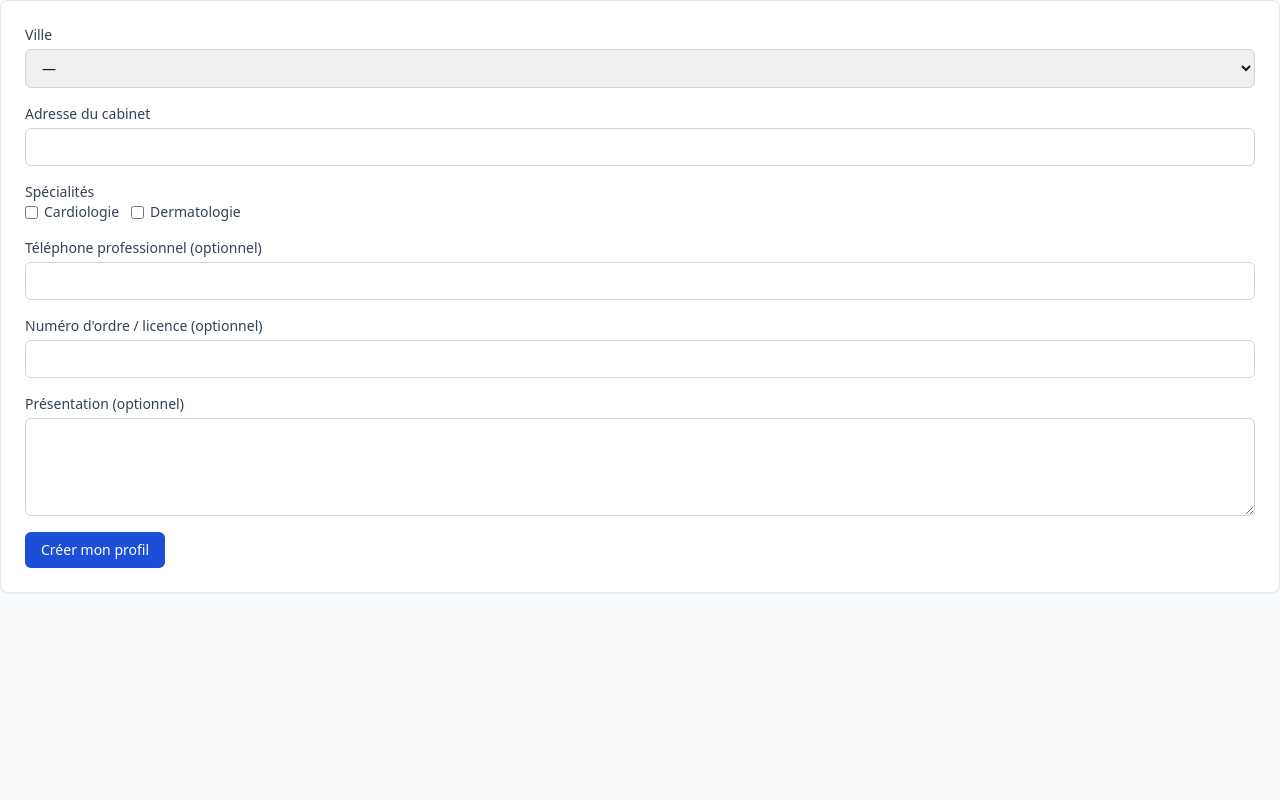
Test case: DoctorProfileForm › affiche le message d'erreur renvoyé par l'API
Select "Casablanca" in the dropdown labelled "Ville" at (640, 68), box [25, 49, 1255, 88]
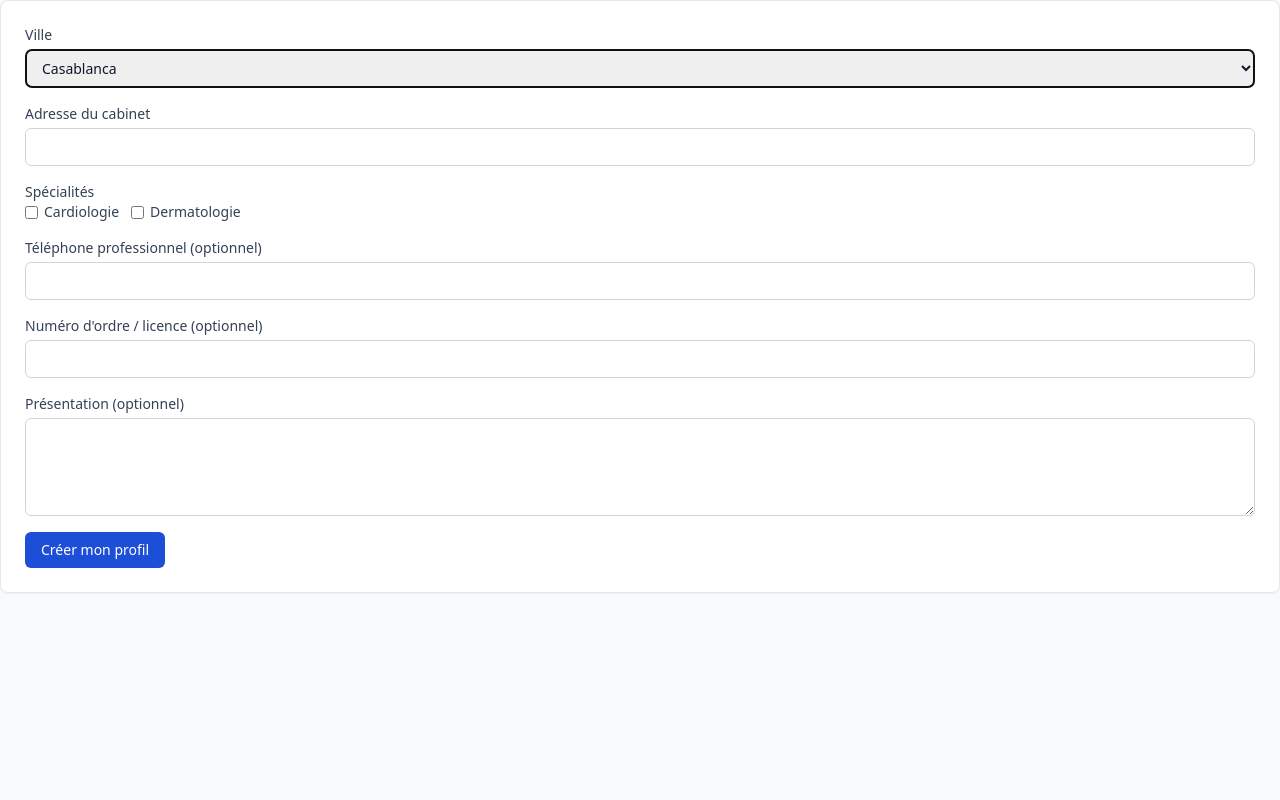
Type "12 rue des Fleurs" into the field labelled "Adresse du cabinet" at (640, 147), box [25, 128, 1255, 166]
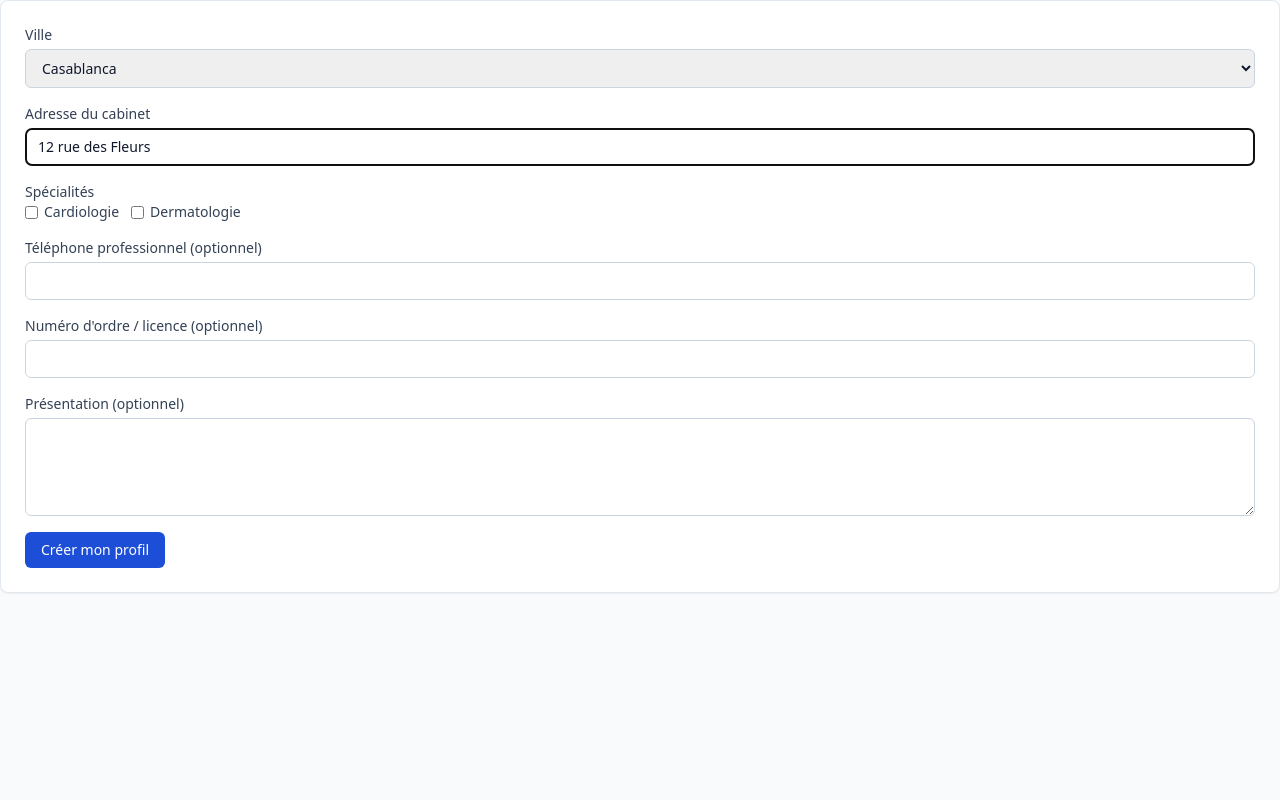
Click the checkbox labelled "Cardiologie" at (32, 212), box [25, 206, 38, 218]
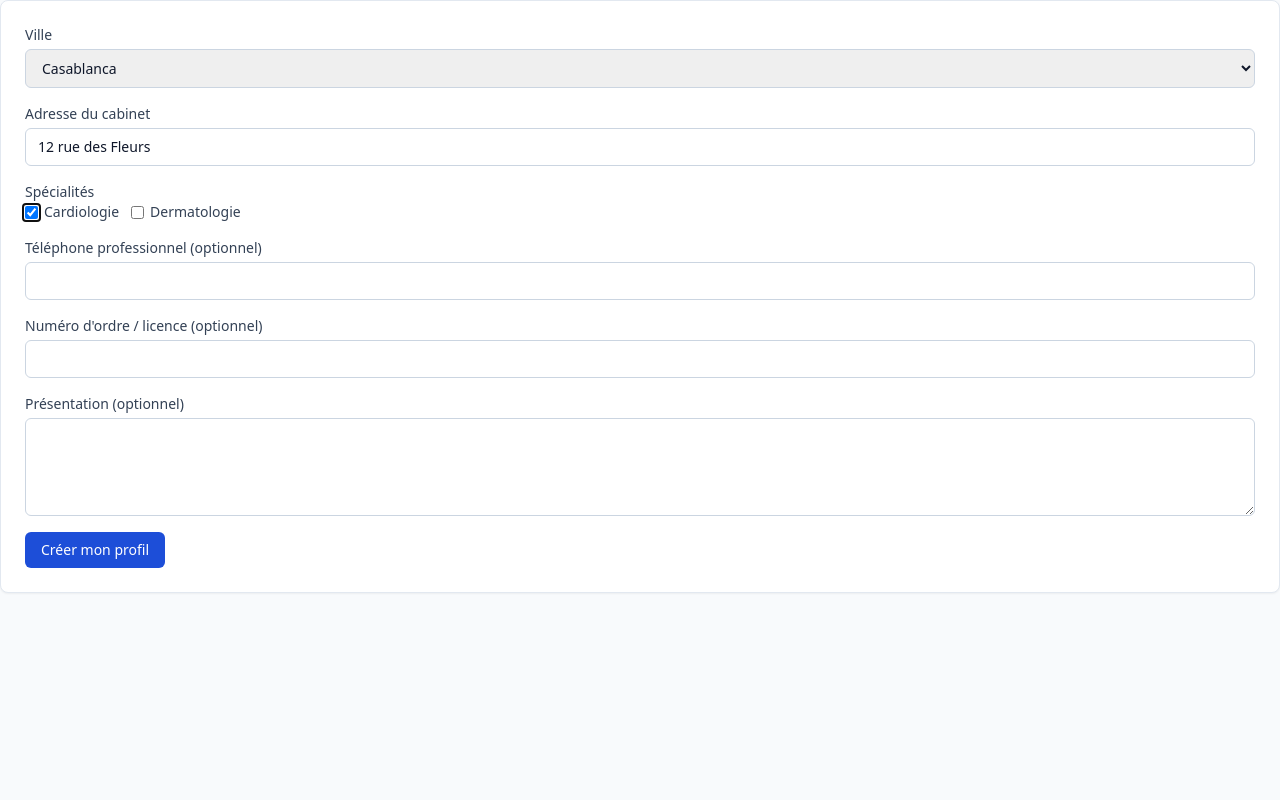
Click the button "Créer mon profil" at (95, 550), box [25, 532, 165, 568]
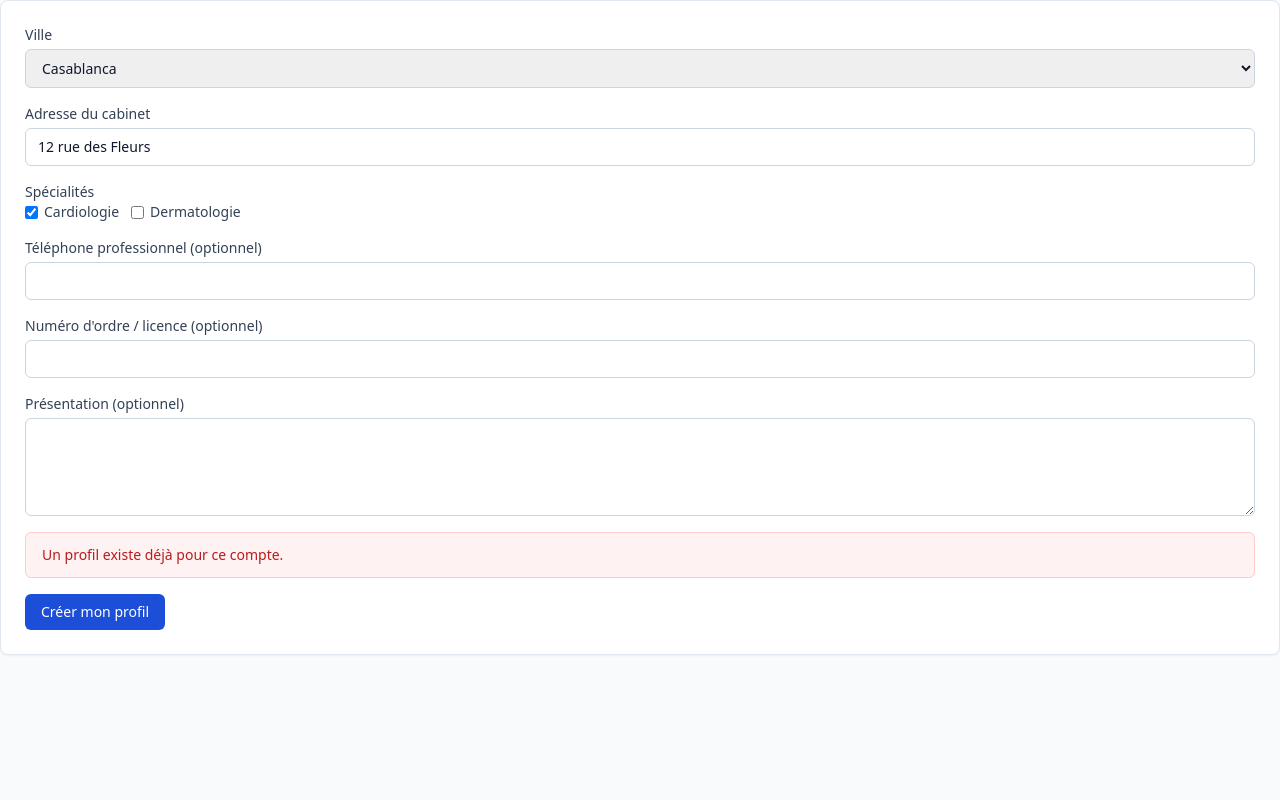
Expected: the message reads "Un profil existe déjà pour ce compte.", [42, 545, 283, 564]
